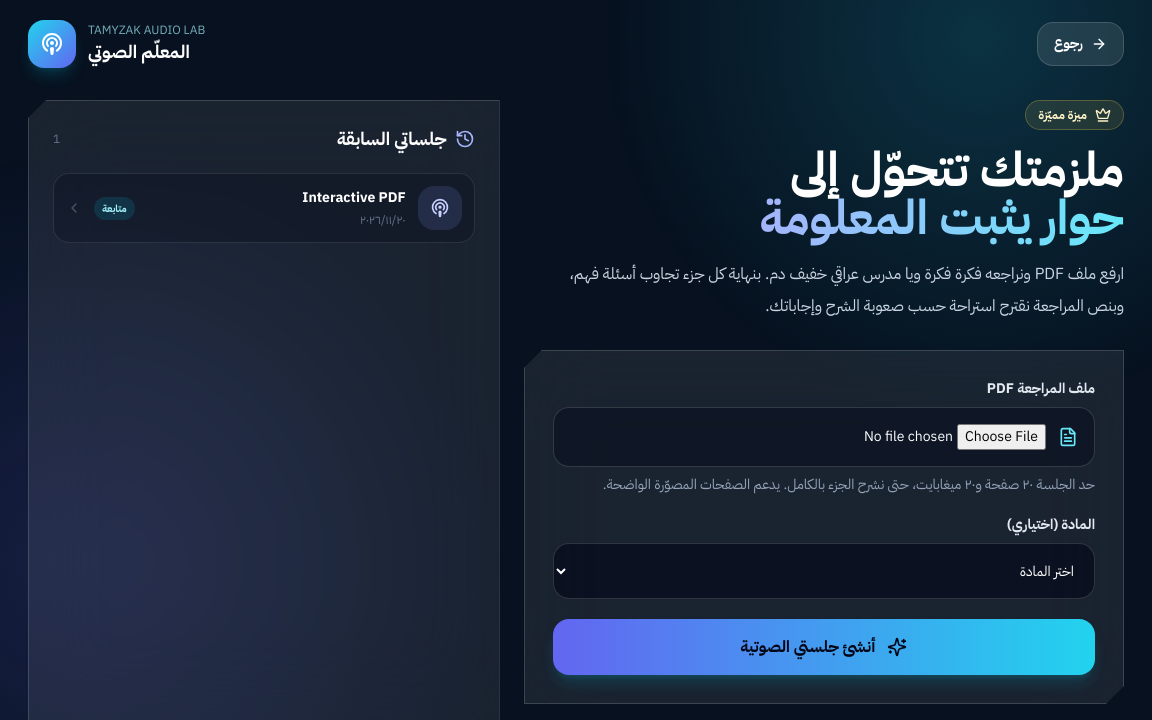
Test: can skip through a review and labels skipped sections without awarding mastery
Click the button "Interactive PDF ٢٠ /١١ /٢٠٢٦ متابعة" at [440, 208], box [53,173,475,243]
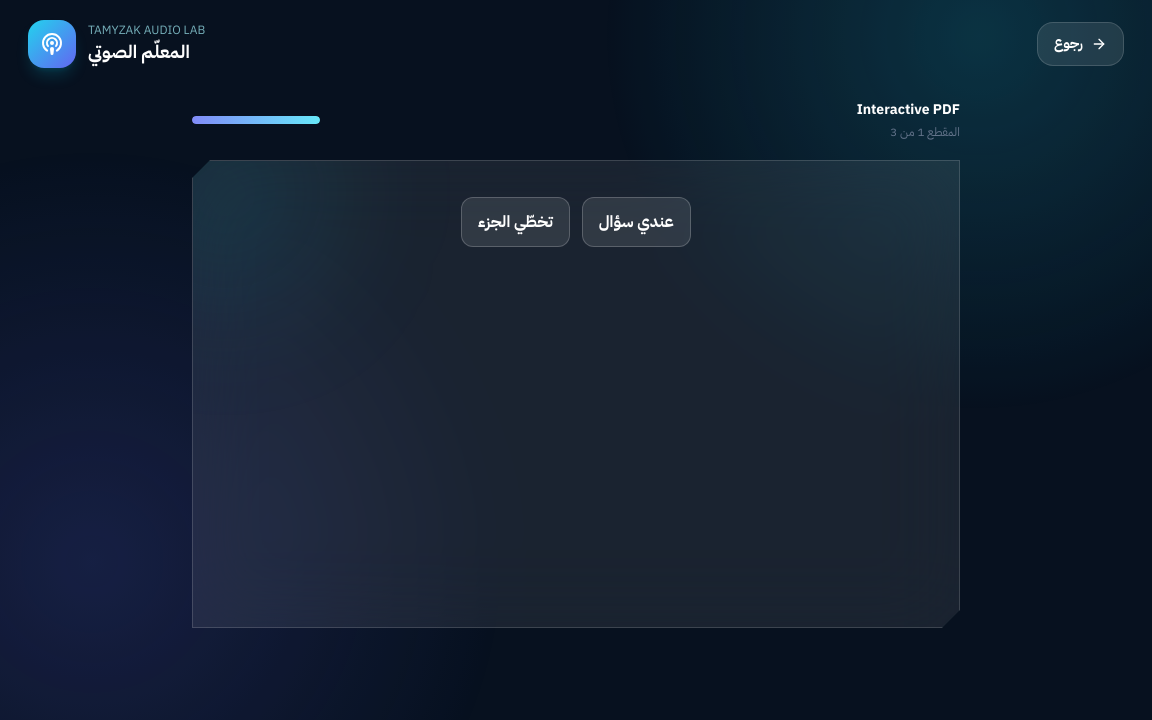
Click the button "تخطّي الجزء" at [515, 222], box [461,197,570,247]
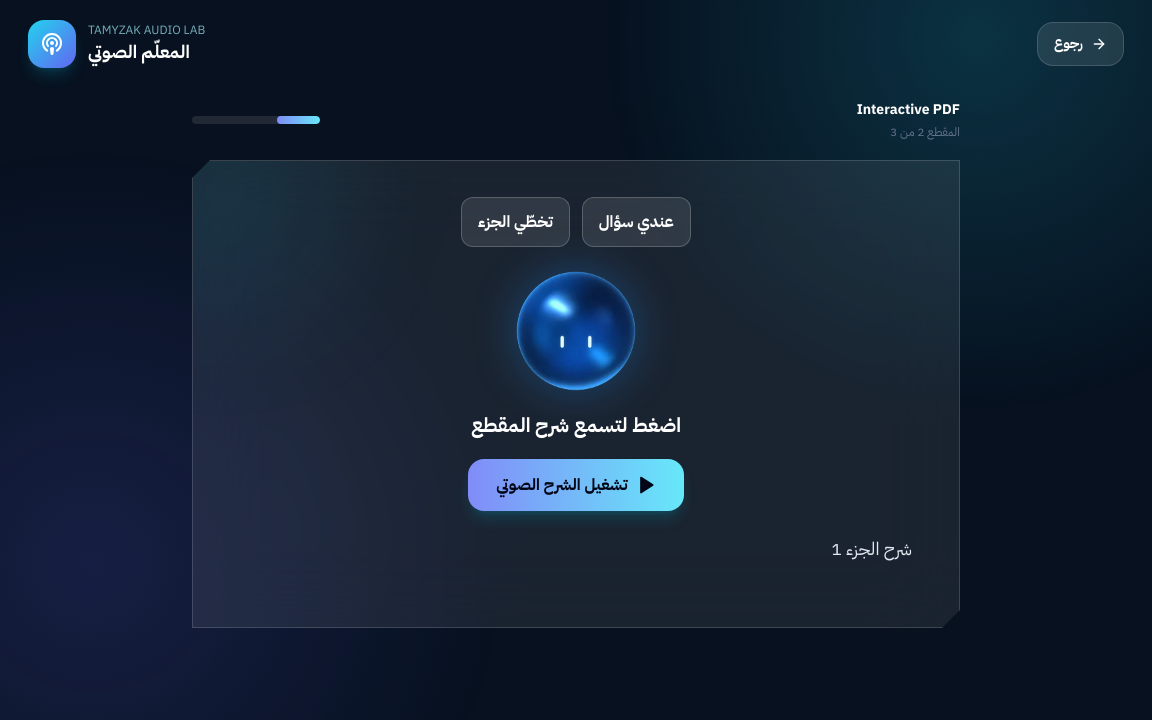
Click the button "تخطّي الجزء" at [515, 222], box [461,197,570,247]
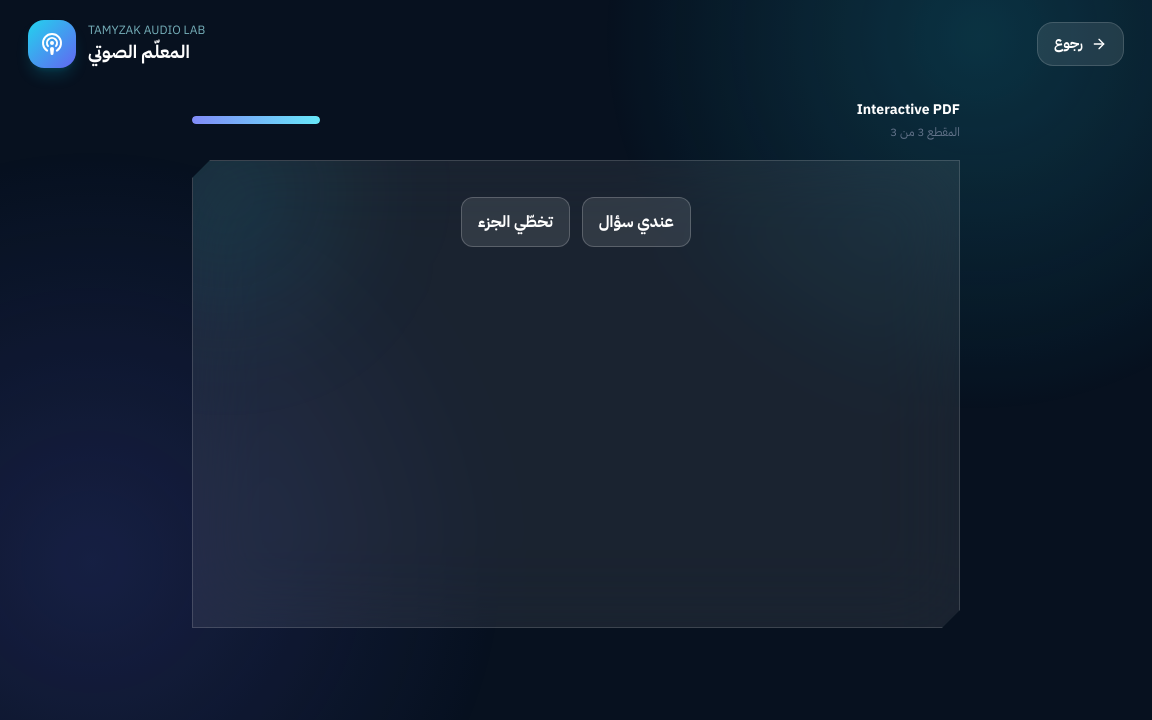
Click the button "تخطّي الجزء" at [515, 222], box [461,197,570,247]
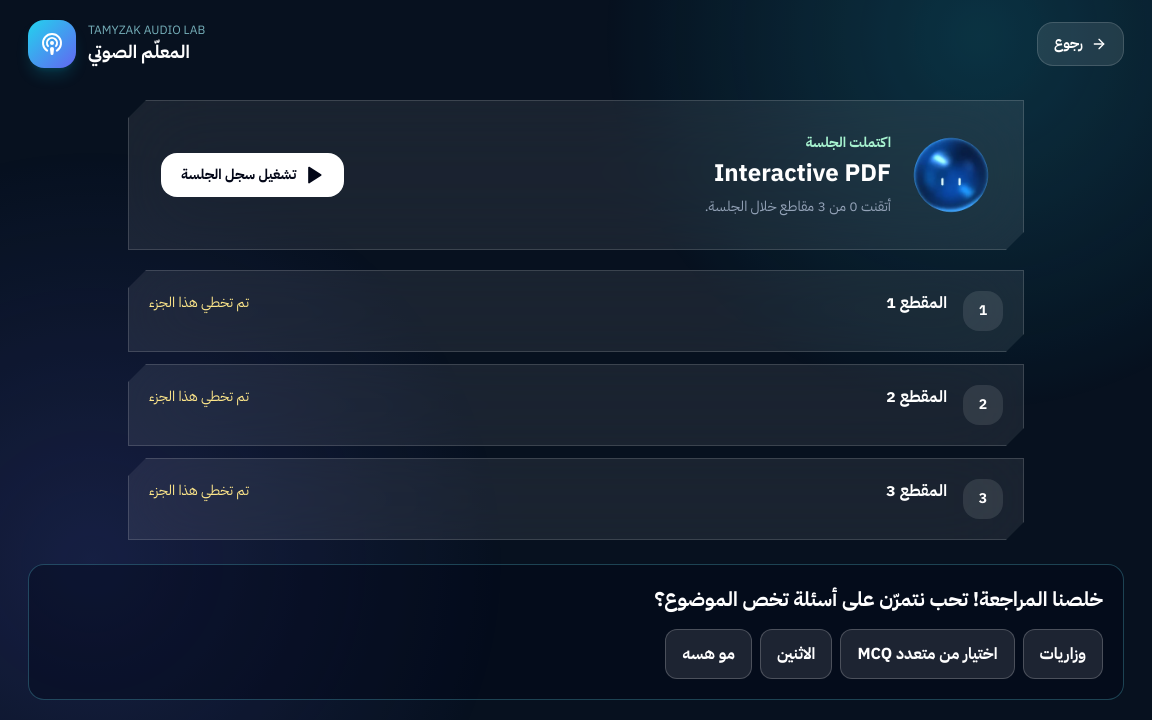
Result: the text "اكتملت الجلسة" is shown at [805,132,891,153]
Result: the text "تم تخطي هذا الجزء" is shown 3 times at [149,293,249,313]; [149,387,249,407]; [149,481,249,501]
